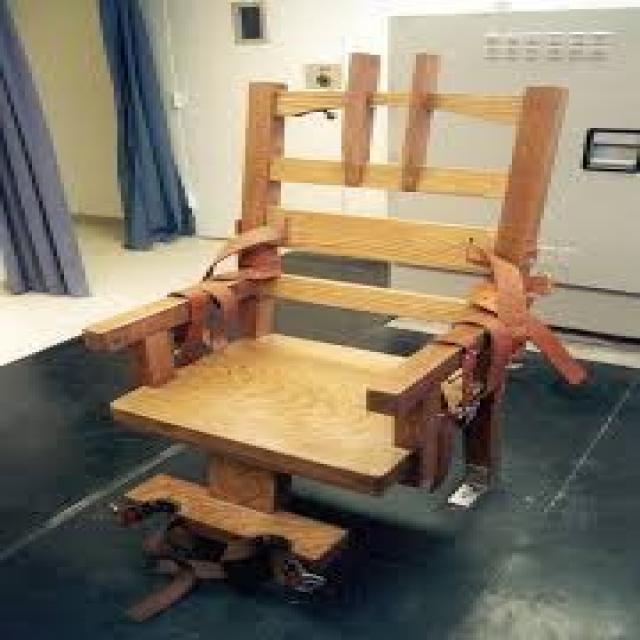chair: (84, 77, 589, 589)
